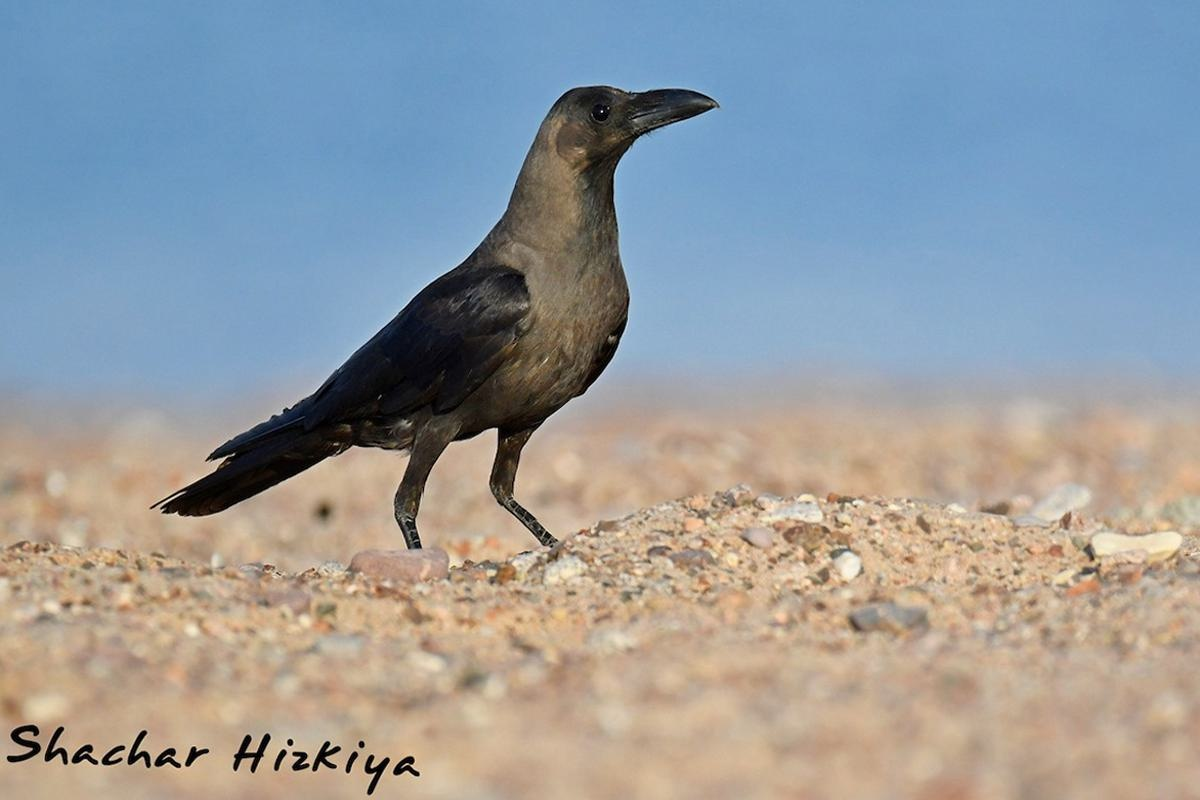crow: (147, 44, 751, 577)
